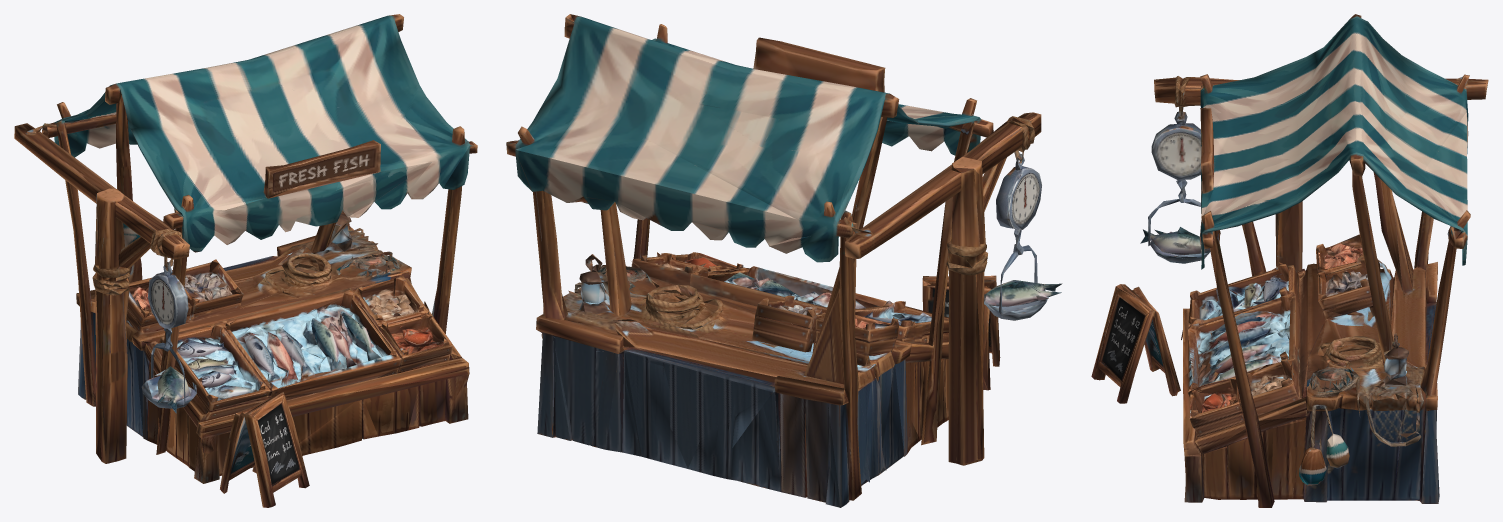
Rendered from Prop_MarketStall.fbx.
3 views of the same model, side by side, from view 1: azimuth 30°, elevation 25°; view 2: azimuth 150°, elevation 25°; view 3: azimuth 270°, elevation 25° (orthographic). The views are drawn at different scales.
Parts seen in each view (by area): view 1: Mesh_0; view 2: Mesh_0; view 3: Mesh_0.
Boxes of the visible parts, box(x1,y1,x2,y2) form: Mesh_0: box(14, 14, 477, 507); Mesh_0: box(506, 14, 1062, 507); Mesh_0: box(1091, 14, 1488, 507).
Bounding box in the file's own units: 190 × 179 × 183.
Materials: 1 (1 with a texture image).
